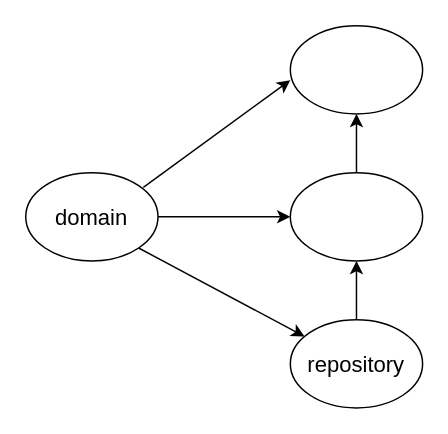
This 448x434 diagram has some shape labels left out. The box of each missing label's shape, as (x1, y1, x2, y2) in pixels:
handler: (289, 24, 423, 114)
service: (289, 171, 423, 261)
